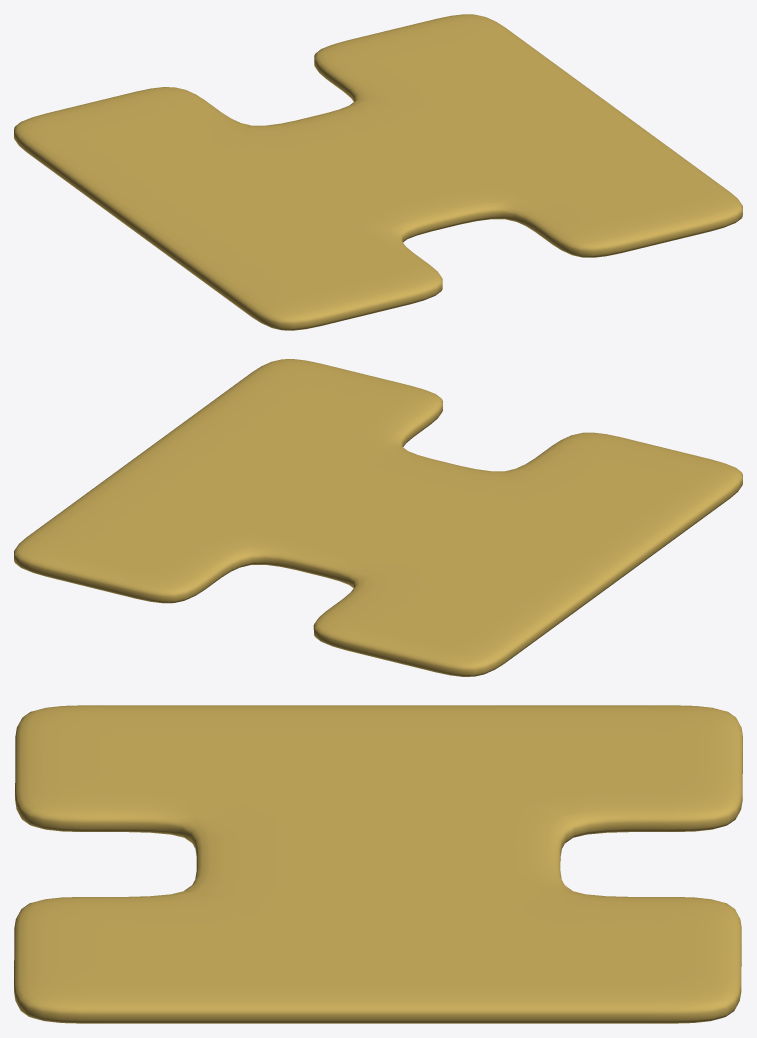
Rendered from GoldenPuzzle-22-OFOF.fbx.
3 renders of one model, top to bottom at view 1: azimuth 30°, elevation 25°; view 2: azimuth 150°, elevation 25°; view 3: azimuth 270°, elevation 25°, orthographic. The views are drawn at different scales.
Visible parts, largest first — view 1: Puzzle_022; view 2: Puzzle_022; view 3: Puzzle_022.
Part boxes in pixels (left/top/right/bottom): Puzzle_022: left=14, top=14, right=742, bottom=330; Puzzle_022: left=14, top=359, right=742, bottom=676; Puzzle_022: left=14, top=705, right=742, bottom=1023.
Bounding box in the file's own units: 0.25 × 0.00924 × 0.2514.
